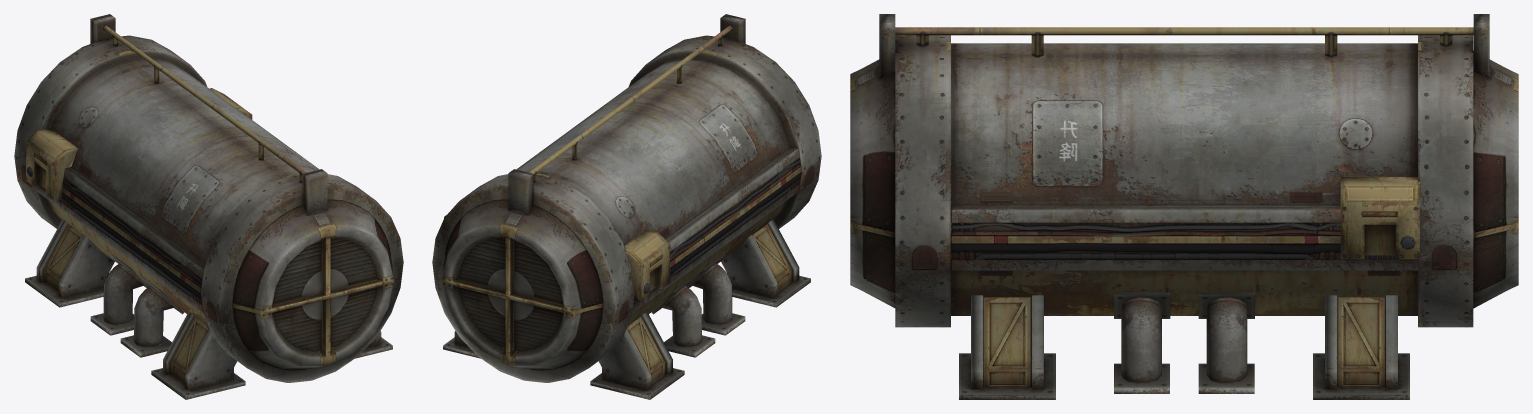
The model's file is turbine_small.dae.
3 renders of one model, left to right at view 1: azimuth 30°, elevation 25°; view 2: azimuth 150°, elevation 25°; view 3: azimuth 270°, elevation 25°, orthographic. The views are drawn at different scales.
Visible parts, largest first — view 1: Mesh; view 2: Mesh; view 3: Mesh.
Boxes of the visible parts, bbox=[...] form: Mesh: bbox=[14, 14, 403, 399]; Mesh: bbox=[432, 14, 821, 399]; Mesh: bbox=[850, 14, 1518, 399].
Size of the model in its own units: 4 by 4.07 by 7.97.
